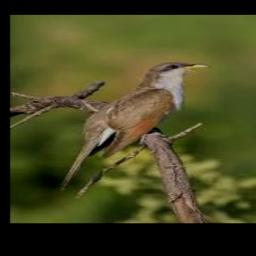Cuckoo: (61, 62, 210, 190)
